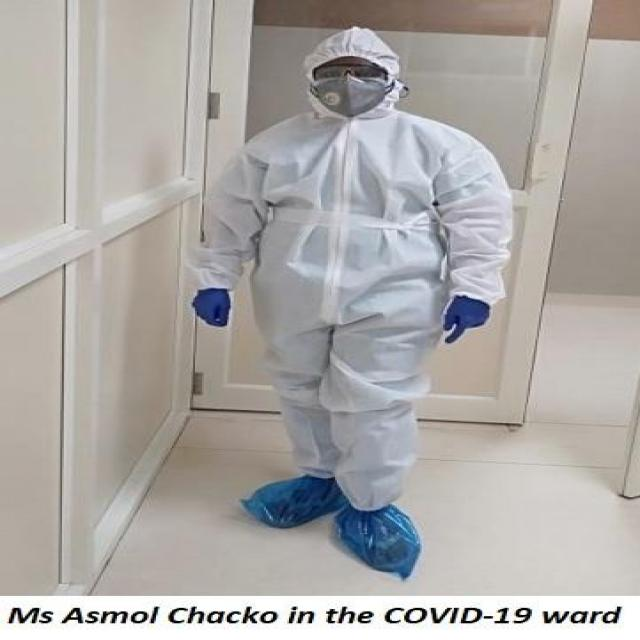Gloves: (443, 293, 491, 343), (190, 288, 232, 326)
Goggles: (312, 60, 392, 88)
